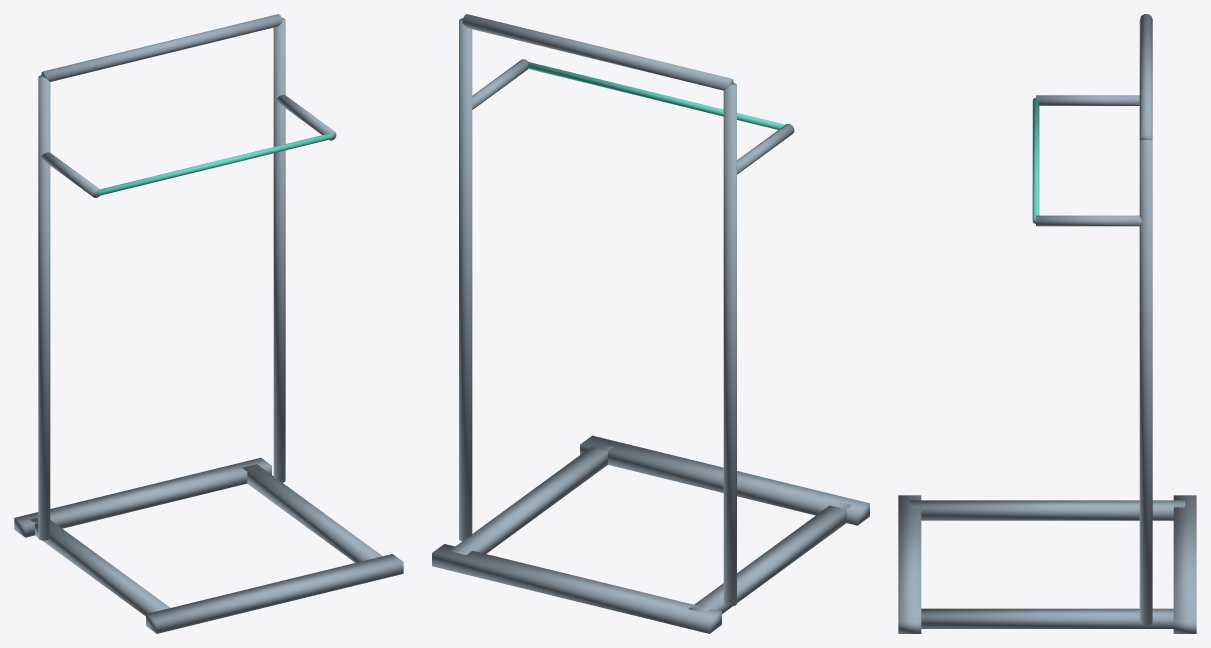
The model's file is pullup_clearance_b.glb.
3 views of the same model, side by side, from view 1: azimuth 30°, elevation 25°; view 2: azimuth 150°, elevation 25°; view 3: azimuth 270°, elevation 25° (orthographic). The views are drawn at different scales.
Visible parts, largest first — view 1: base, upright-1, upright1, rear_crossbeam, top_bar, bar_support-1, bar_support1; view 2: base, upright-1, upright1, rear_crossbeam, top_bar, bar_support-1, bar_support1; view 3: base, upright1, rear_crossbeam, bar_support1, bar_support-1, top_bar.
Boxes of the visible parts, box(x1,y1,x2,y2) form: base: box(14, 457, 403, 633); upright-1: box(38, 75, 50, 540); upright1: box(273, 18, 285, 482); rear_crossbeam: box(41, 14, 282, 81); top_bar: box(97, 133, 333, 196); bar_support-1: box(41, 152, 99, 197); bar_support1: box(276, 94, 336, 140); base: box(432, 435, 869, 633); upright-1: box(723, 83, 736, 606); upright1: box(459, 18, 472, 541); rear_crossbeam: box(462, 14, 733, 90); top_bar: box(528, 62, 784, 129); bar_support-1: box(737, 123, 794, 174); bar_support1: box(472, 59, 528, 109); base: box(898, 495, 1196, 633); upright1: box(1139, 140, 1152, 625); rear_crossbeam: box(1139, 14, 1152, 139); bar_support1: box(1036, 215, 1142, 226); bar_support-1: box(1036, 95, 1139, 105); top_bar: box(1032, 98, 1039, 223).
Bounding box in the file's own units: 1.3 × 2.39 × 1.3.
